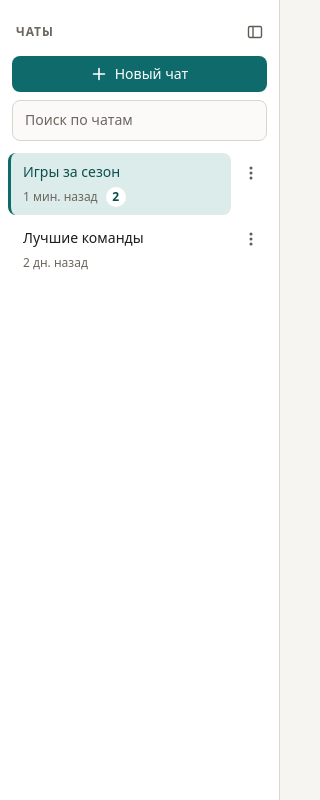
Scenario: ChatList › ignores a slower earlier search response that arrives after a newer one
In the search field named "Поиск чатов": (140, 120) [12, 100, 267, 141], type "a"
Wait 300 ms
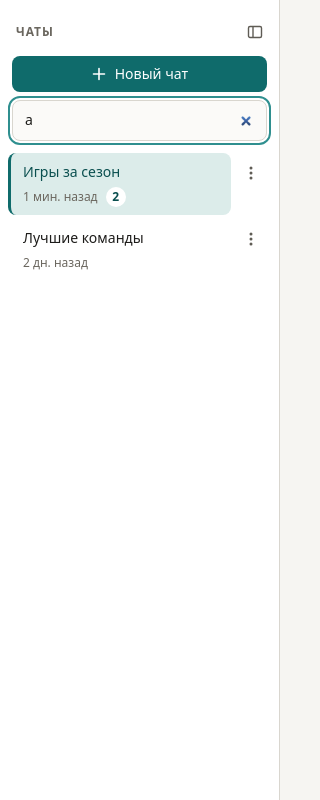
In the search field named "Поиск чатов": (140, 120) [12, 100, 267, 141], type "b"
Wait 300 ms
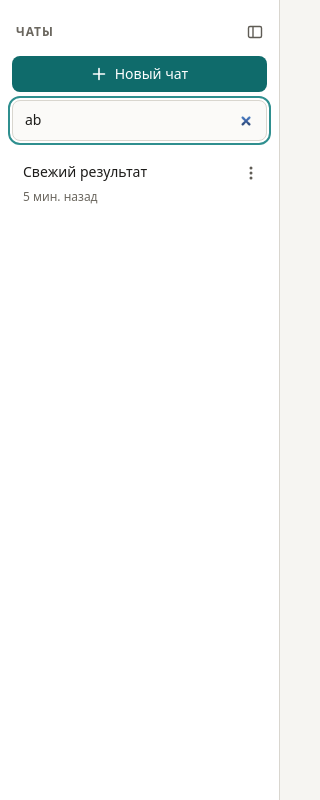
Now the link "Свежий результат 5 мин. назад" is shown, box [23, 162, 147, 205]
